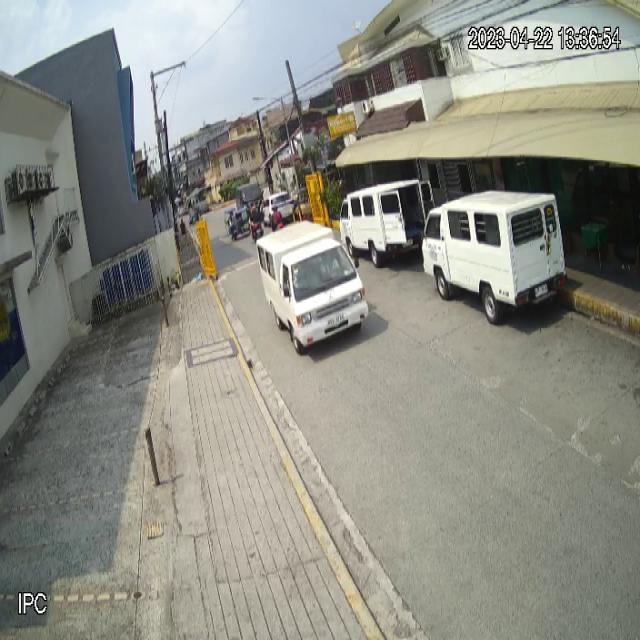Van: (421, 189, 569, 326), (256, 219, 369, 355), (339, 178, 436, 269)
